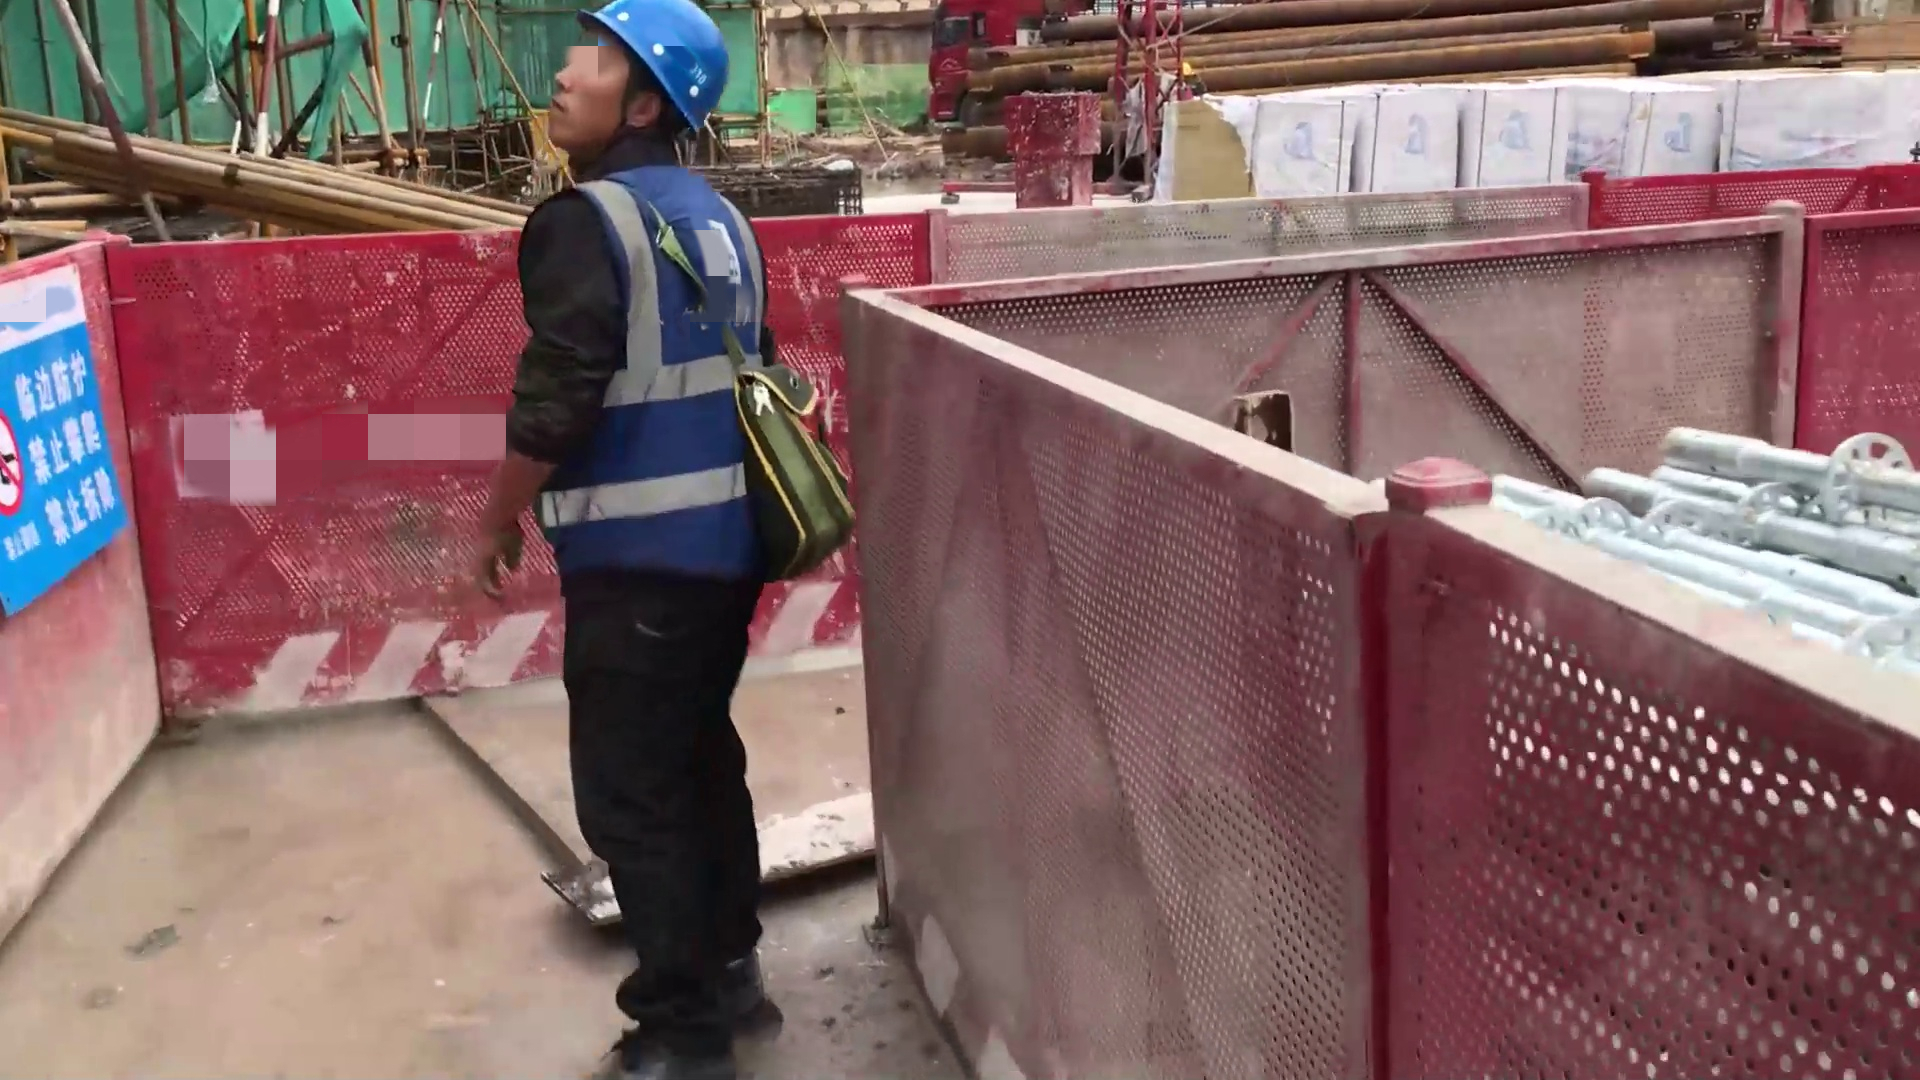fence: (855, 289, 1499, 1080)
helmet: (573, 1, 733, 144)
person: (460, 1, 857, 1075)
slogan: (1, 242, 149, 638)
vest: (522, 161, 779, 583)
